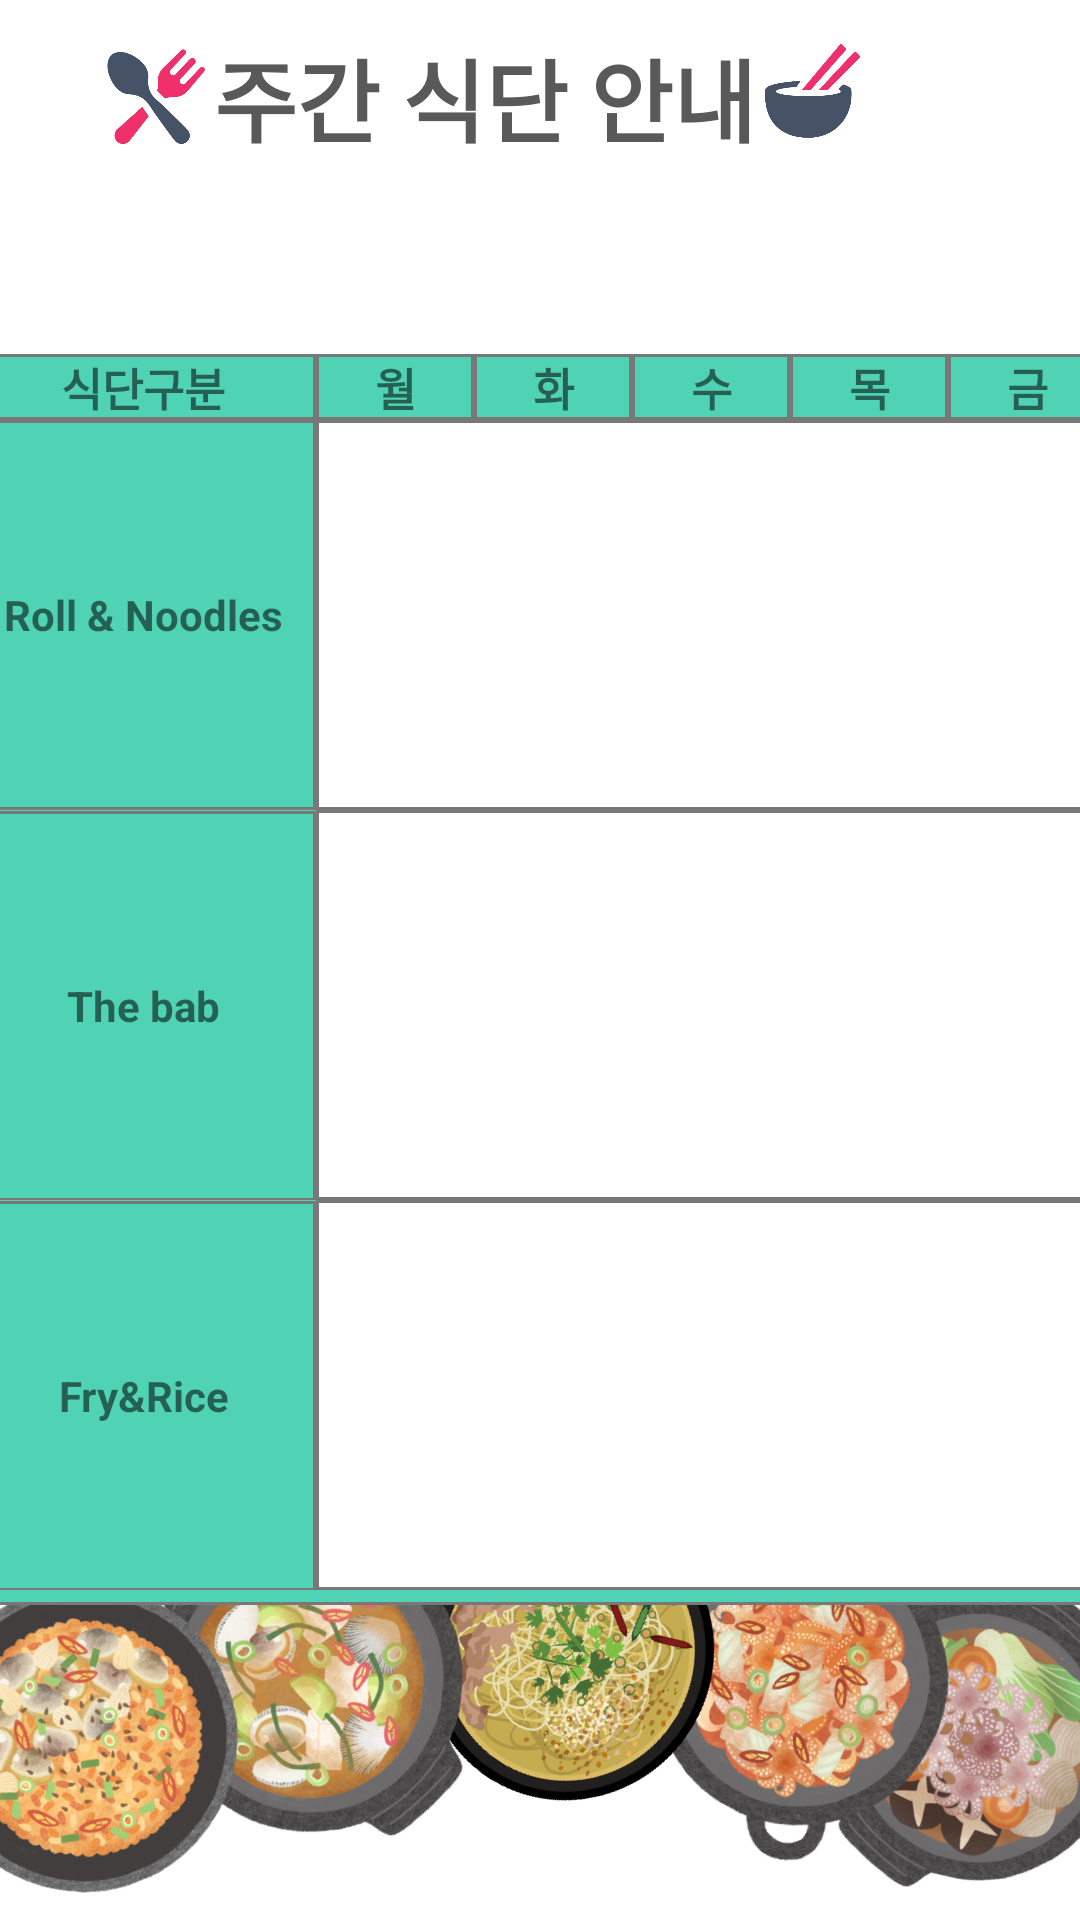

Icons on this 1080px x 1920px Android screen, each with its box as (x1, y1, x2, y2):
spoon: (107, 49, 205, 144)
